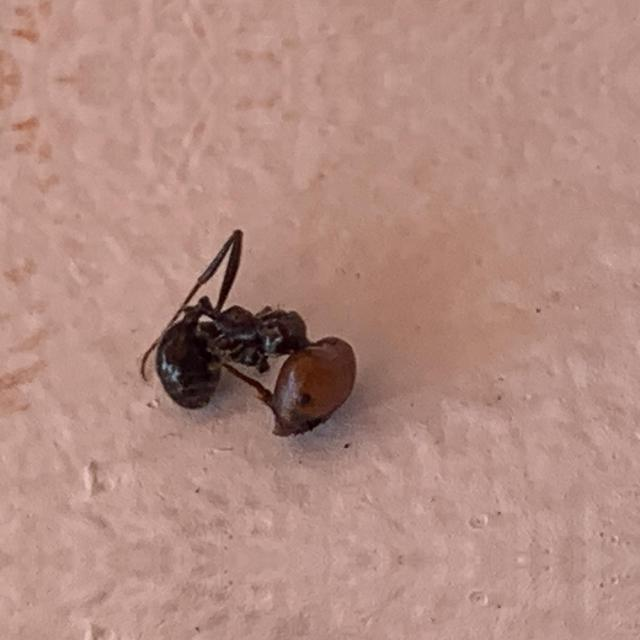Messor: (136, 249, 340, 423)
